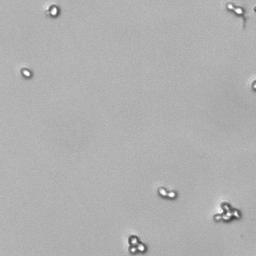budding: (126, 233, 147, 254), (157, 185, 177, 200), (224, 2, 245, 16)
cluster: (213, 200, 243, 224)
individual: (18, 67, 33, 79), (48, 4, 59, 17)
